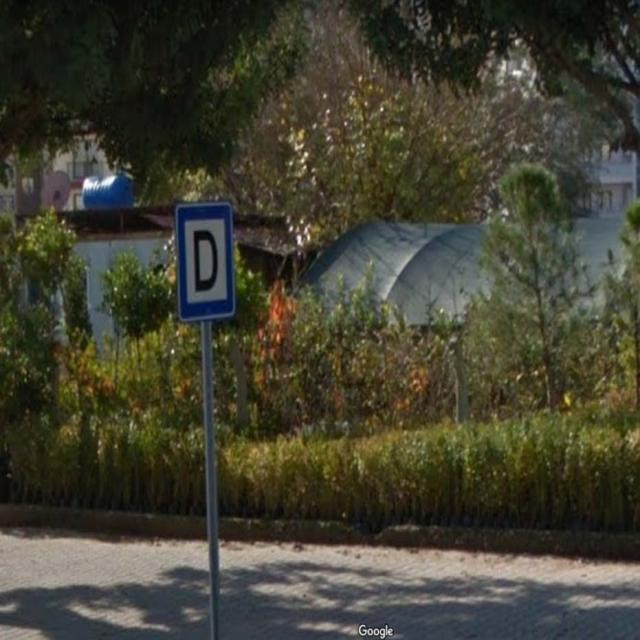durak: (176, 204, 236, 319)
